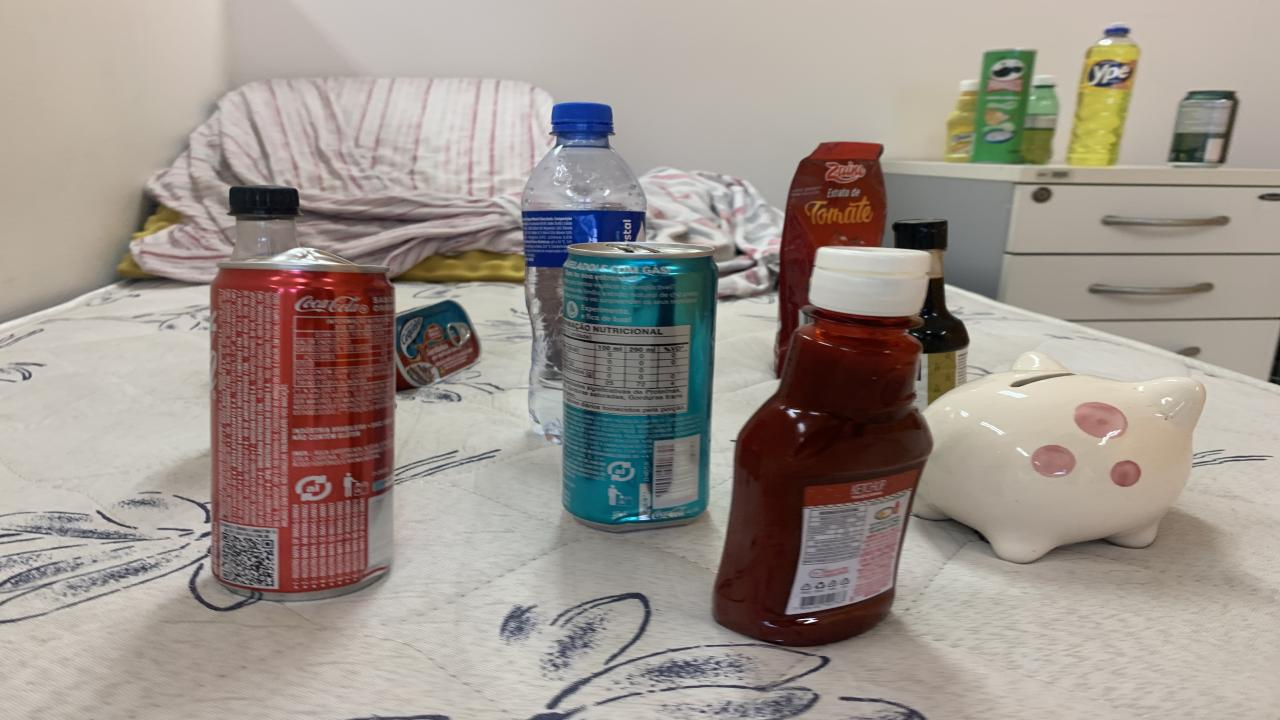Coke-Drinks: (212, 248, 395, 598)
English_Sauce-Pantry_Items: (892, 219, 970, 409)
Ketchup-Pantry_Items: (712, 248, 932, 645)
Pig_Safe-Miscellaneous: (915, 352, 1205, 562)
Soda-Drinks: (230, 186, 300, 261)
Tea-Drinks: (562, 244, 718, 527)
Tomato_Sauce-Pantry_Items: (775, 142, 888, 375)
Tuna_Can-Pantry_Items: (395, 300, 480, 390)
Water_Bottle-Drinks: (520, 103, 648, 439)
